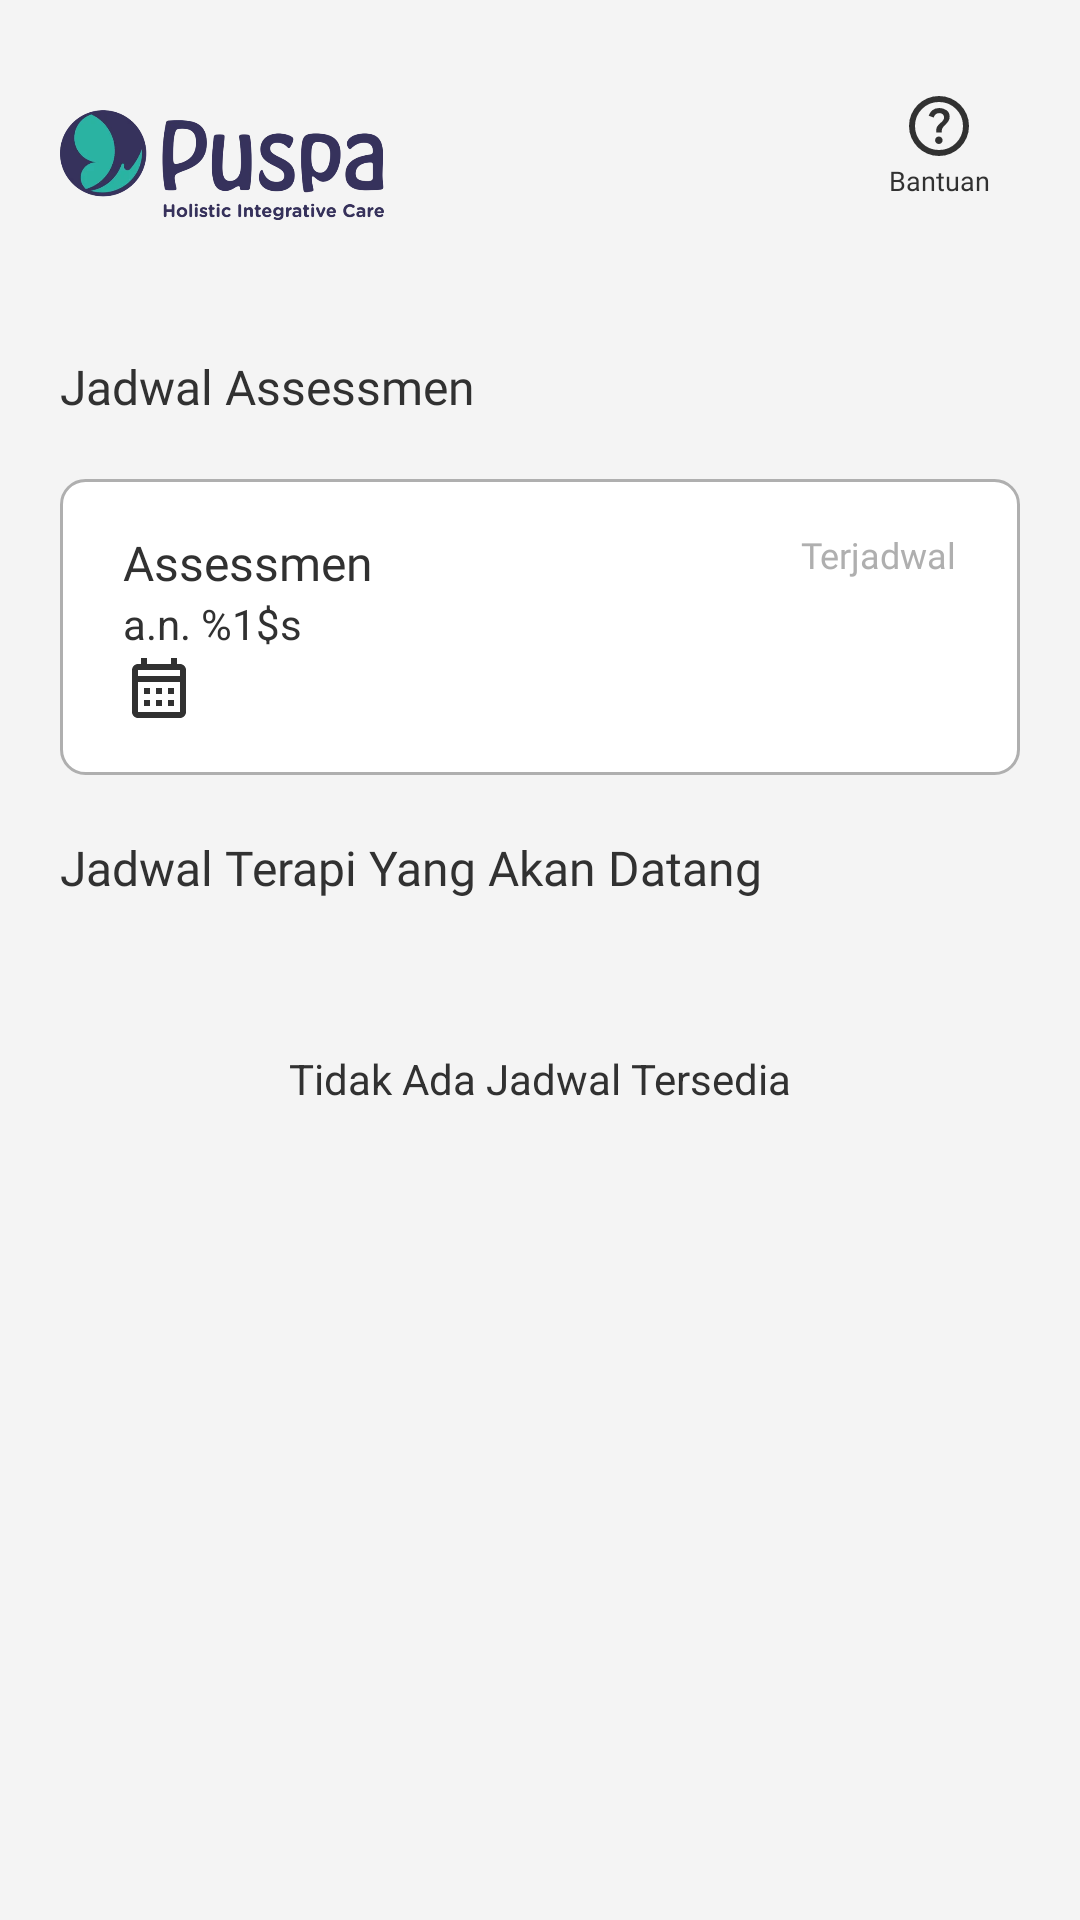

Where to tap for icons on this 1080*1920 app screen, as (x,y):
calendar month: (159,688)
